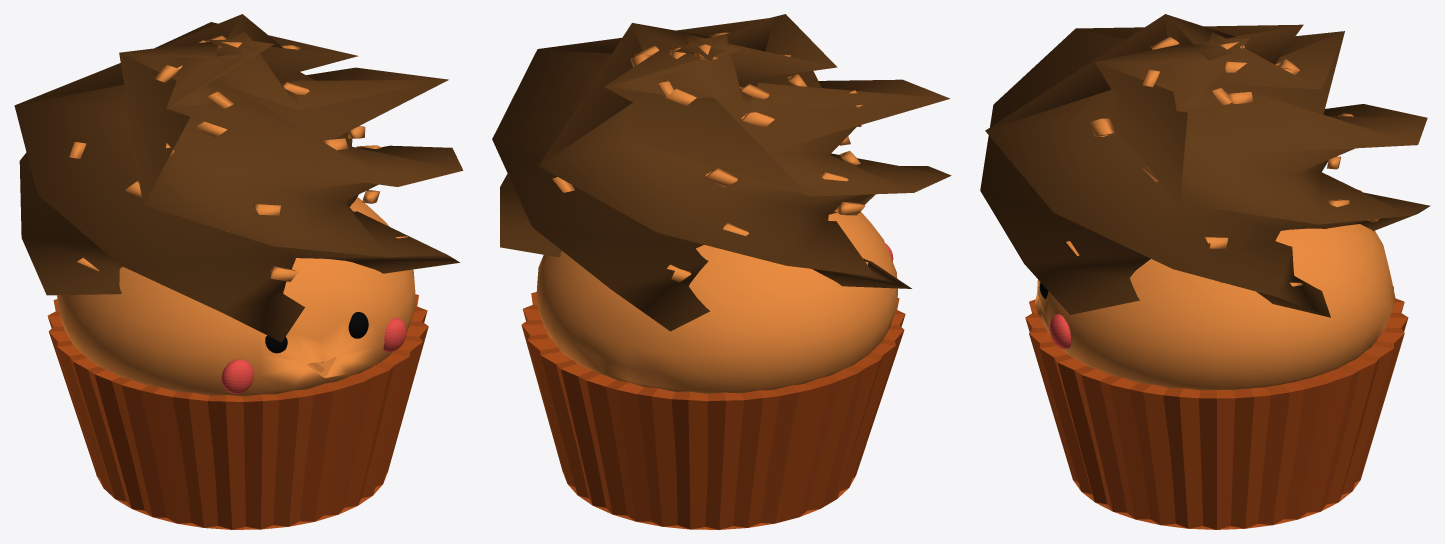
Rendered from cupcakeOne.glb.
The picture shows the model from 3 angles, left to right: view 1: azimuth 30°, elevation 25°; view 2: azimuth 150°, elevation 25°; view 3: azimuth 270°, elevation 25°; orthographic projection.
Visible parts, largest first — view 1: Star, Circle, Sphere, Sphere.005, Sphere.003; view 2: Star, Circle, Sphere; view 3: Star, Circle, Sphere, Sphere.003.
Part boxes in pixels (<box>): Star: <box>14,14,463,342</box>; Circle: <box>47,294,428,529</box>; Sphere: <box>57,197,415,396</box>; Sphere.005: <box>221,359,253,393</box>; Sphere.003: <box>383,318,406,352</box>; Star: <box>492,14,951,331</box>; Circle: <box>521,292,905,529</box>; Sphere: <box>536,211,897,393</box>; Star: <box>980,14,1430,317</box>; Circle: <box>1025,286,1408,529</box>; Sphere: <box>1034,224,1395,390</box>; Sphere.003: <box>1049,314,1071,349</box>.
Size of what is drawn, in the model's own units: 2.16 by 2.23 by 2.14.
